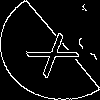X: (24, 25, 89, 79)
